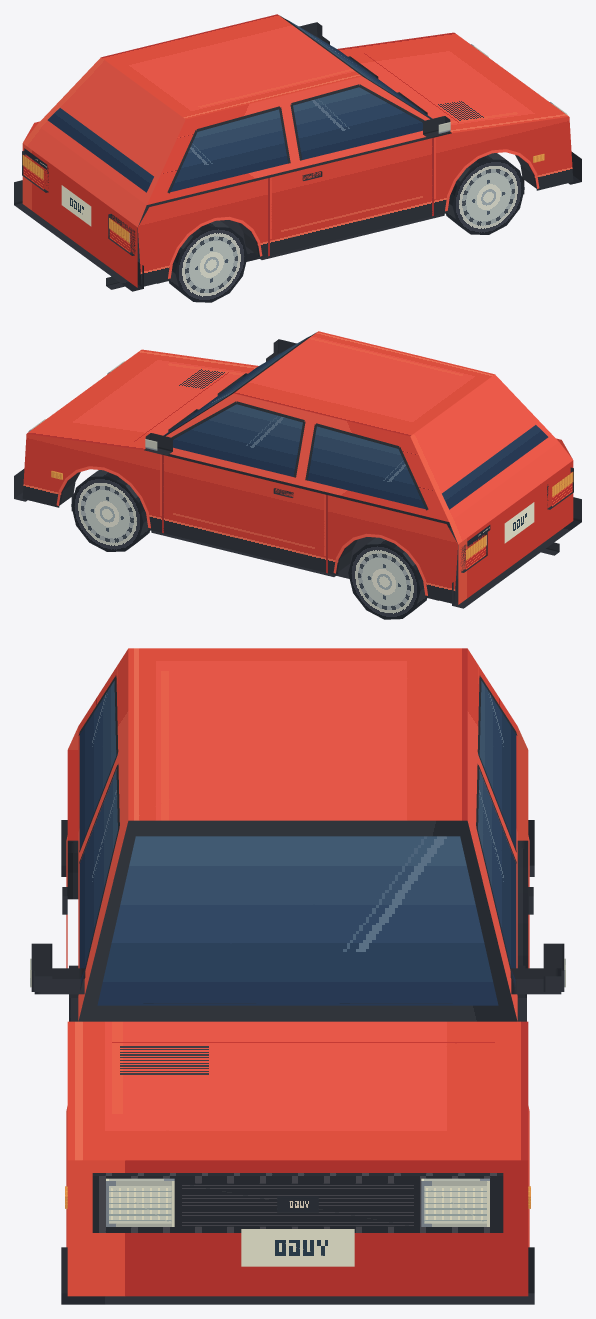
Rendered from yugo-koral-55-pixel.glb.
3 renders of one model, top to bottom at view 1: azimuth 30°, elevation 25°; view 2: azimuth 150°, elevation 25°; view 3: azimuth 270°, elevation 25°, orthographic. The views are drawn at different scales.
Visible parts, largest first — view 1: Yugo-body, wheel-rear-right, wheel-front-right; view 2: Yugo-body, wheel-rear-left, wheel-front-left; view 3: Yugo-body.
Boxes of the visible parts, bbox=[...] form: Yugo-body: bbox=[14, 14, 581, 291]; wheel-rear-right: bbox=[169, 220, 247, 302]; wheel-front-right: bbox=[445, 153, 524, 234]; Yugo-body: bbox=[14, 331, 581, 608]; wheel-rear-left: bbox=[348, 537, 426, 619]; wheel-front-left: bbox=[71, 470, 150, 551]; Yugo-body: bbox=[30, 648, 565, 1304].
Bounding box in the file's own units: 3.49 × 1.32 × 1.8.
Materials: 1 (1 with a texture image).
